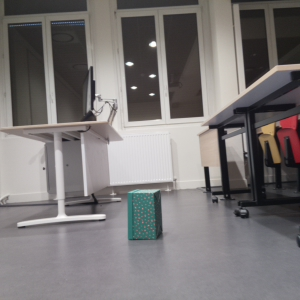small: (126, 188, 166, 244)
